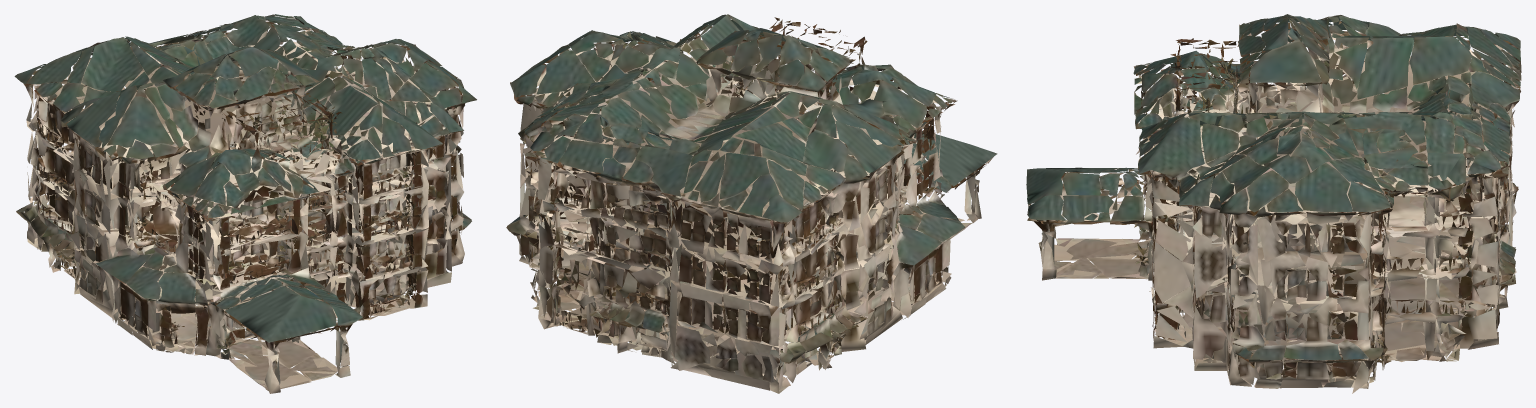
Rendered from hotel.glb.
The picture shows the model from 3 angles, left to right: view 1: azimuth 30°, elevation 25°; view 2: azimuth 150°, elevation 25°; view 3: azimuth 270°, elevation 25°; orthographic projection. The views are drawn at different scales.
Visible parts, largest first — view 1: Mesh_0; view 2: Mesh_0; view 3: Mesh_0.
Part boxes in pixels (x1,y1,x2,y2): Mesh_0: (14, 14, 476, 393); Mesh_0: (506, 14, 997, 393); Mesh_0: (1026, 14, 1521, 393).
Bounding box in the file's own units: 1.7 × 1.13 × 1.9.
Materials: 1 (1 with a texture image).
